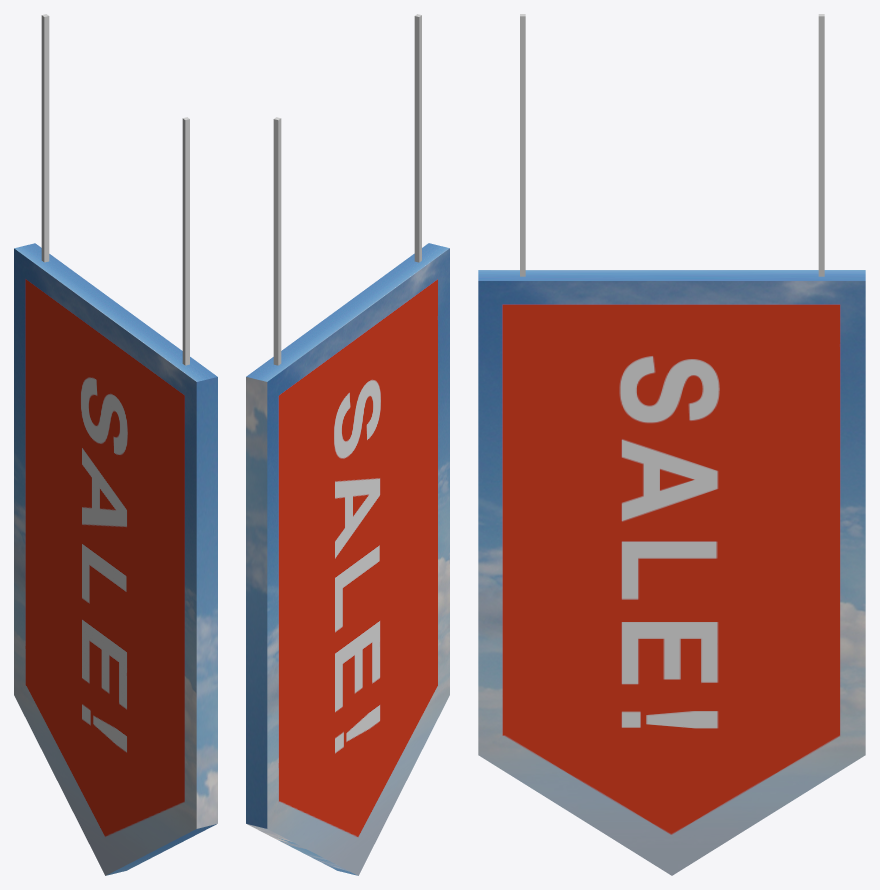
File: CEILING DECO_SALE BANNER.fbx
The picture shows the model from 3 angles, left to right: view 1: azimuth 30°, elevation 25°; view 2: azimuth 150°, elevation 25°; view 3: azimuth 270°, elevation 25°; orthographic projection. The views are drawn at different scales.
Parts seen in each view (by area): view 1: pCube1, pCube4; view 2: pCube1, pCube4; view 3: pCube1, pCube4.
Part boxes in pixels (box(x1,y1,x2,y2)): pCube1: box(14, 243, 217, 875); pCube4: box(41, 14, 189, 365); pCube1: box(246, 243, 449, 875); pCube4: box(273, 14, 421, 365); pCube1: box(478, 270, 865, 875); pCube4: box(520, 14, 824, 276).
Size of the model in its own units: 0.2087 by 7.6 by 3.12.
2 materials, 1 textured.
